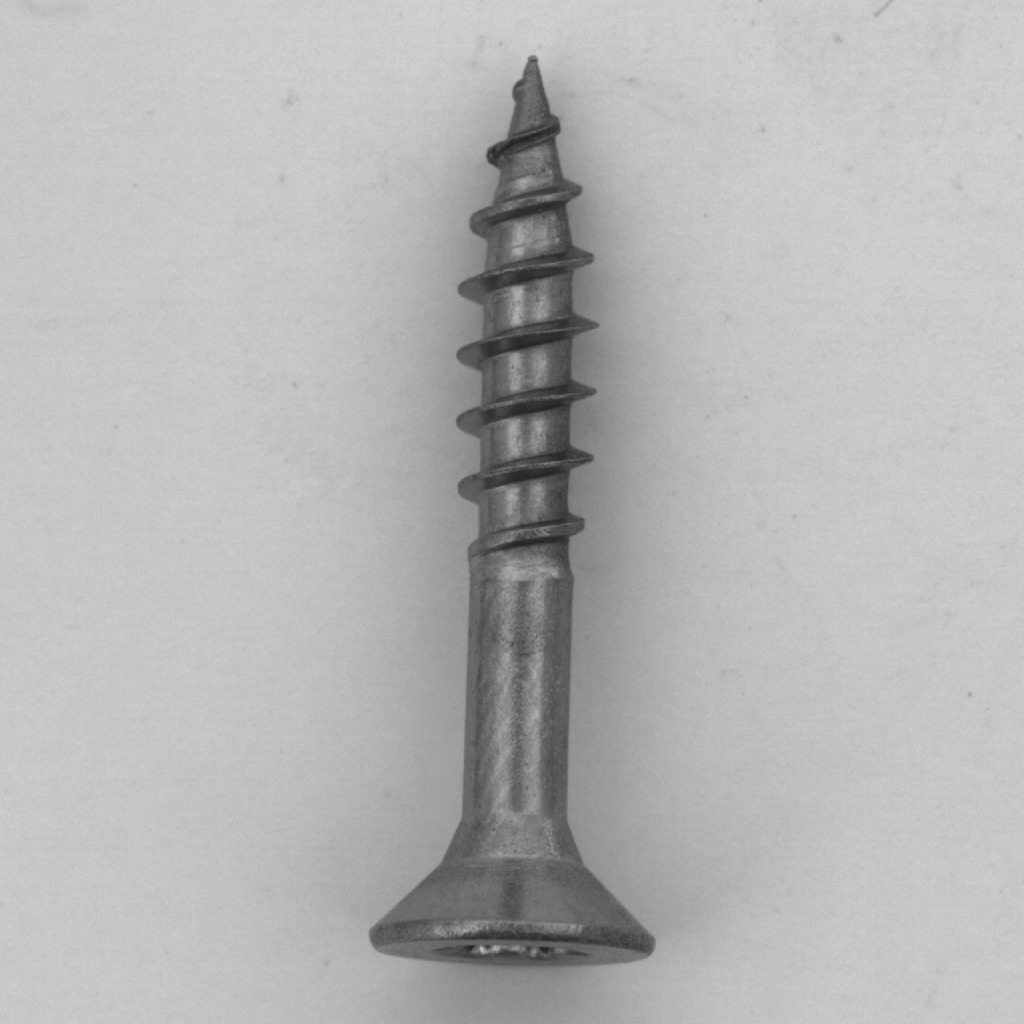good: (343, 32, 677, 992)
